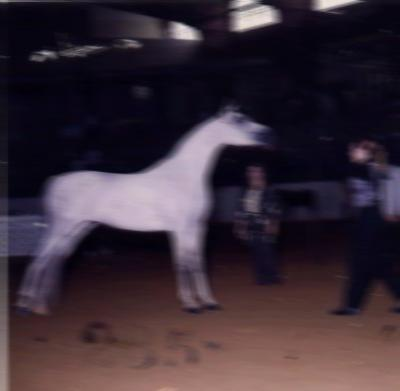horse: (14, 95, 276, 316)
